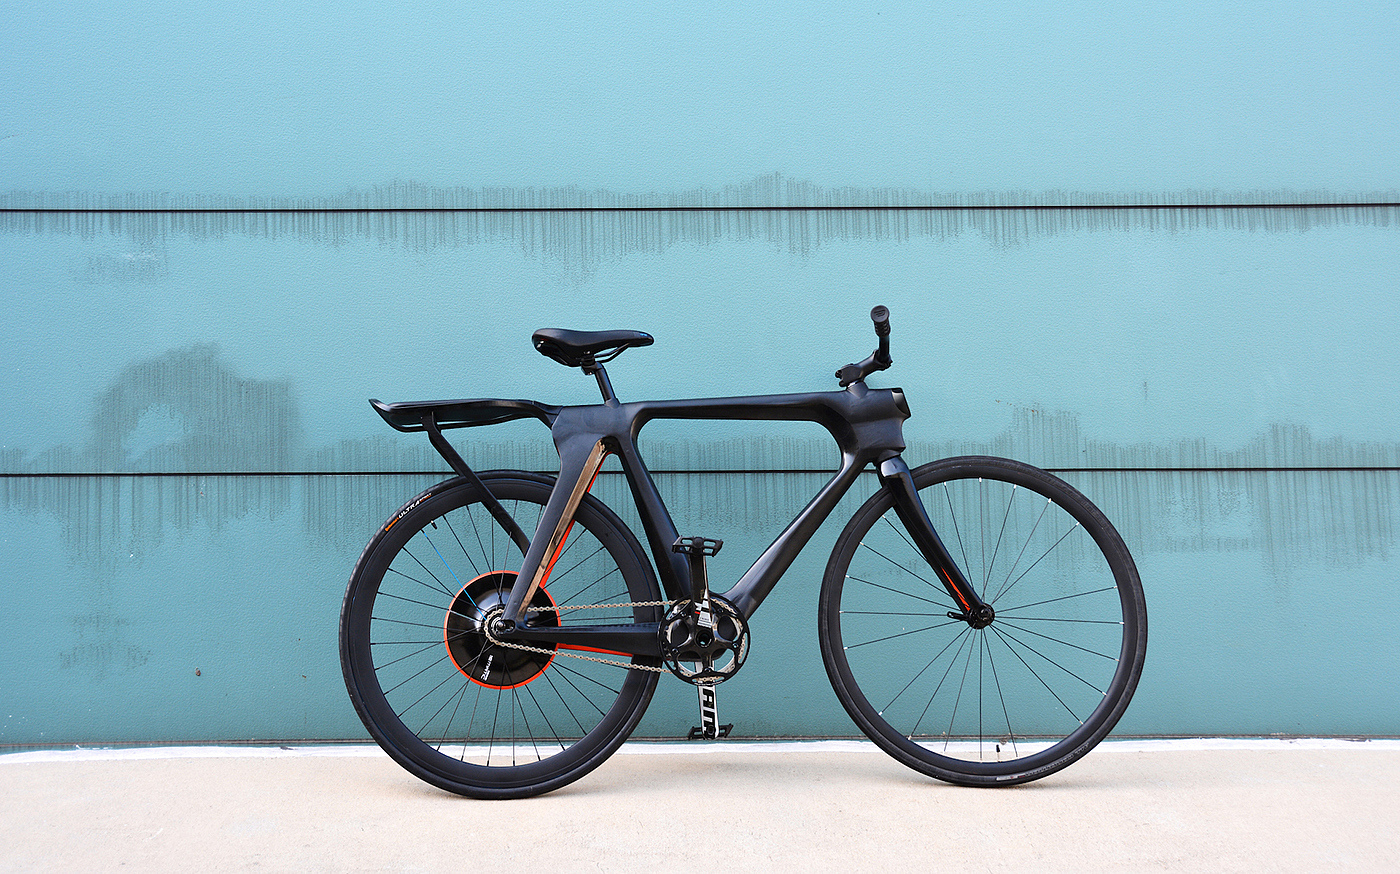MNV: (339, 319, 1149, 792)
